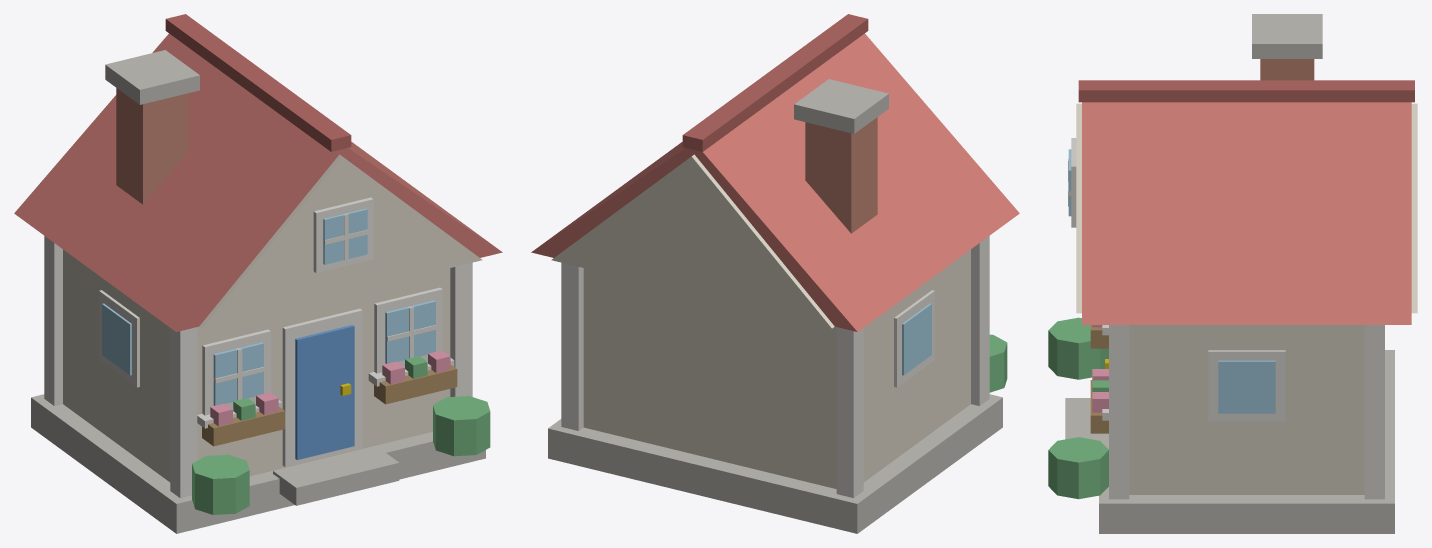
Rendered from rumah_1drawcall.glb.
3 views of the same model, side by side, from view 1: azimuth 30°, elevation 25°; view 2: azimuth 150°, elevation 25°; view 3: azimuth 270°, elevation 25° (orthographic).
Visible parts, largest first — view 1: geometry_0; view 2: geometry_0; view 3: geometry_0.
Boxes of the visible parts, bbox=[...] form: geometry_0: bbox=[14, 14, 502, 533]; geometry_0: bbox=[531, 14, 1019, 533]; geometry_0: bbox=[1048, 14, 1417, 533].
Size of the model in its own units: 1.14 by 1.26 by 1.1.
